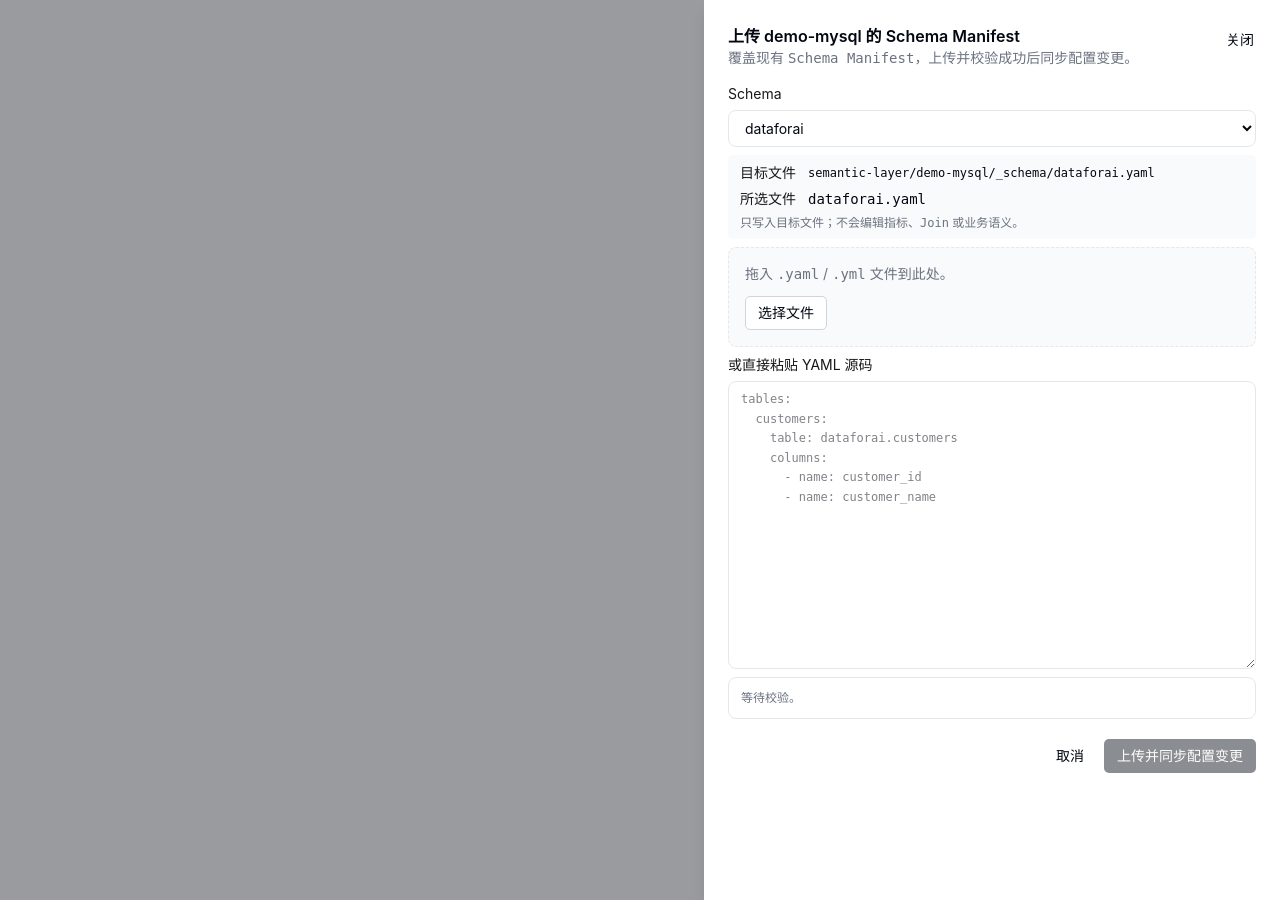
Scenario: CatalogAssetUploadButton + CatalogAssetUploadDrawer › uses the selected Schema for the default read-only filename
Expected: the text with test id "catalog-asset-upload-filename" reads "dataforai.yaml", [808, 191, 926, 207]
Expected: the text with test id "catalog-asset-upload-target-file" reads "semantic-layer/demo-mysql/_schema/dataforai.yaml", [808, 166, 1155, 180]
Step 1. Select "openclaw_db" in the dropdown with test id "catalog-asset-upload-schema" → (992, 128), box [728, 110, 1256, 147]
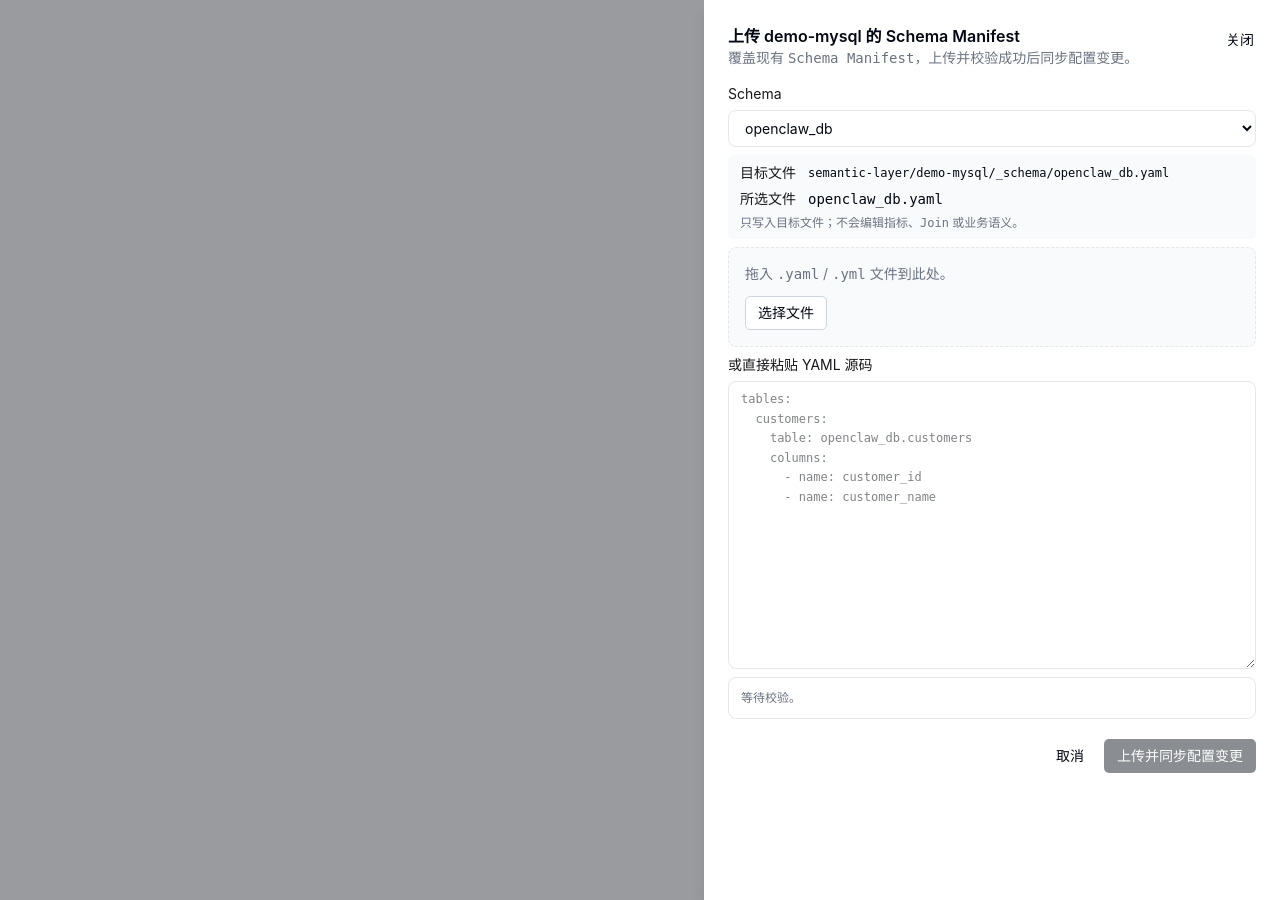
Expected: the text with test id "catalog-asset-upload-filename" reads "openclaw_db.yaml", [808, 191, 943, 207]
Expected: the text with test id "catalog-asset-upload-target-file" reads "semantic-layer/demo-mysql/_schema/openclaw_db.yaml", [808, 166, 1169, 180]
